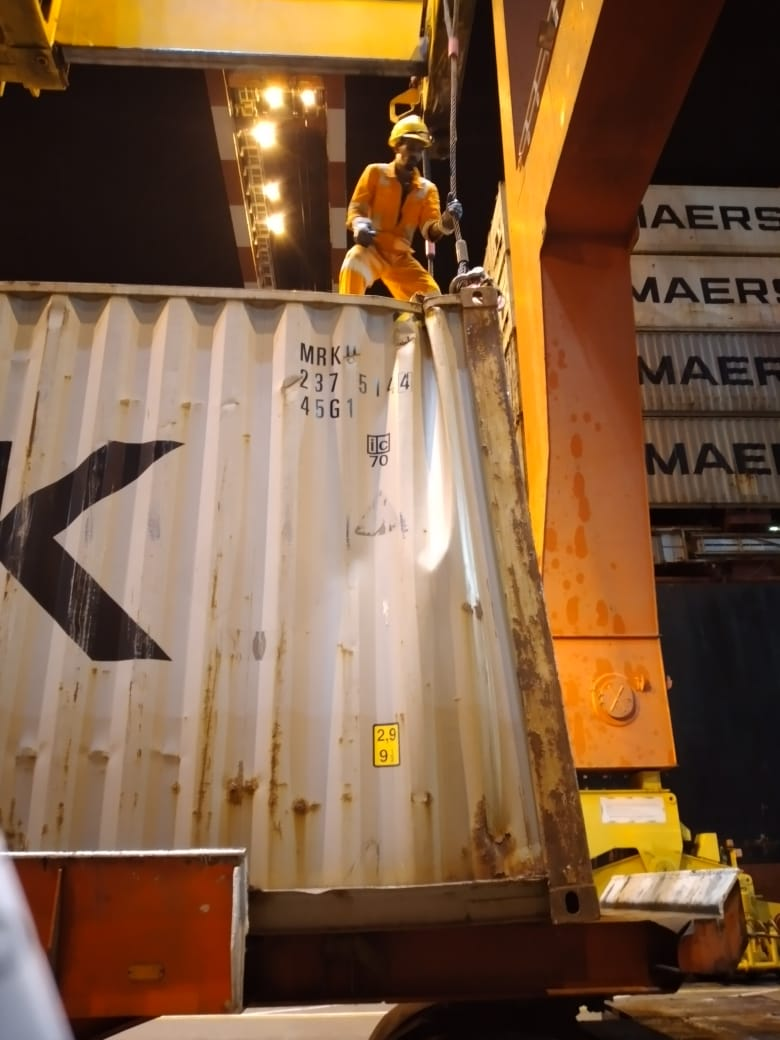right_side: (1, 292, 495, 911)
